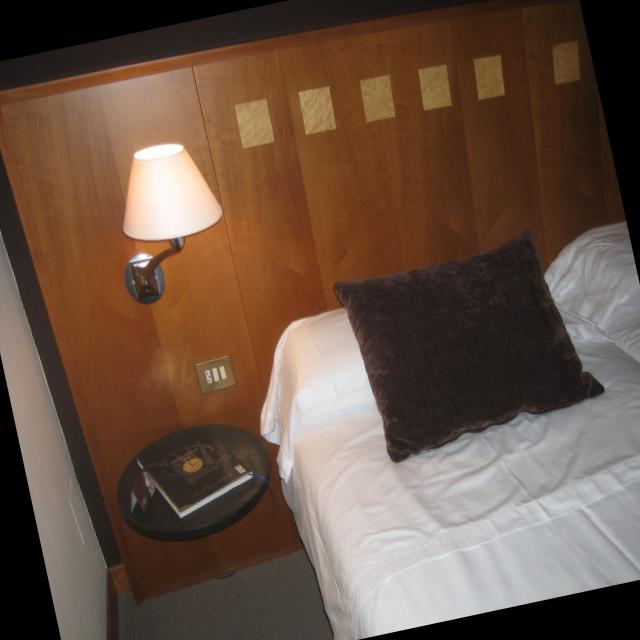bed -occluded-: (262, 221, 640, 640)
book case: (136, 423, 253, 517)
floor -X: (121, 546, 333, 640)
lamp crop: (124, 142, 223, 302)
pillow occluded: (333, 226, 610, 466)
wall clock: (0, 223, 119, 640)
